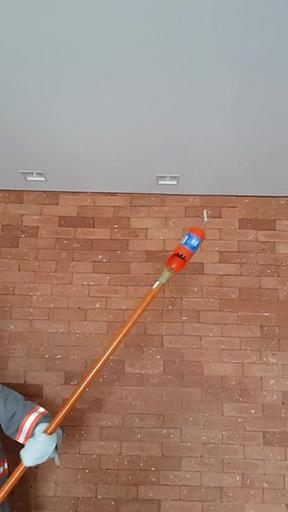Vara_Manobra: (1, 271, 170, 497), (164, 209, 218, 274)
